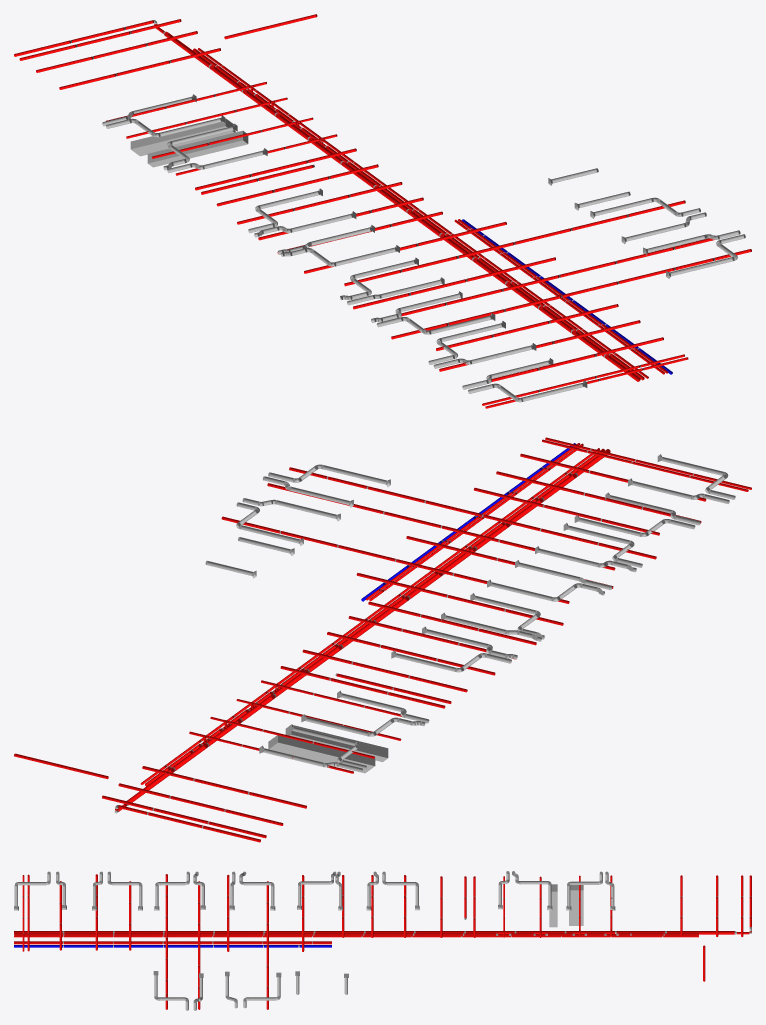
File: pipe_duct.glb
The picture shows the model from 3 angles, top to bottom: view 1: azimuth 30°, elevation 25°; view 2: azimuth 150°, elevation 25°; view 3: azimuth 270°, elevation 25°; orthographic projection. The views are drawn at different scales.
Parts seen in each view (by area): view 1: 1,321,083, 1,320,200; view 2: 1,320,200, 1,321,083; view 3: 1,320,200, 1,321,083.
Part boxes in pixels (bbox=[...]): 1,321,083: bbox=[147, 130, 248, 167]; 1,320,200: bbox=[130, 118, 235, 156]; 1,320,200: bbox=[268, 735, 375, 773]; 1,321,083: bbox=[285, 725, 388, 762]; 1,320,200: bbox=[569, 885, 583, 925]; 1,321,083: bbox=[549, 884, 557, 927].
Bounding box in the file's own units: 19.6 × 1.14 × 44.86.
